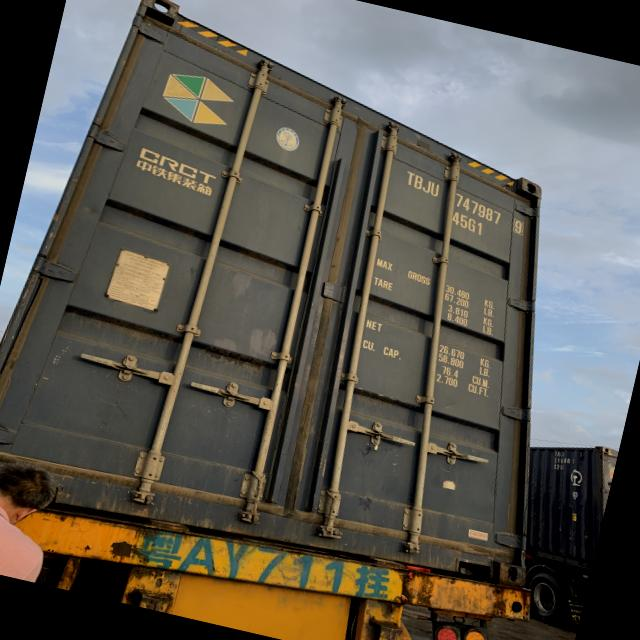seal: (369, 428, 386, 453)
